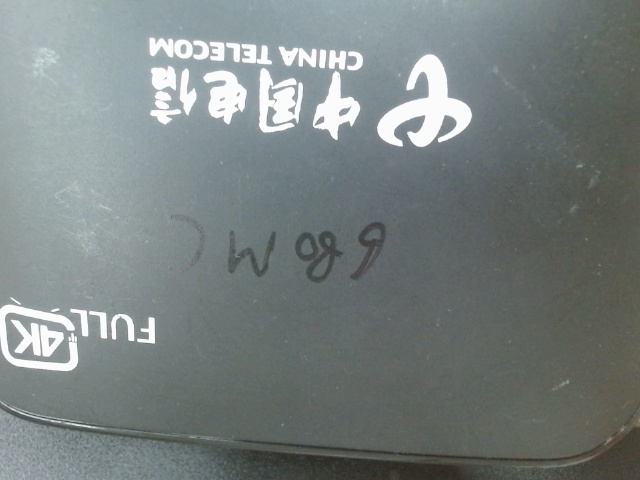AB_ChinaTelecom: (136, 25, 479, 155)
